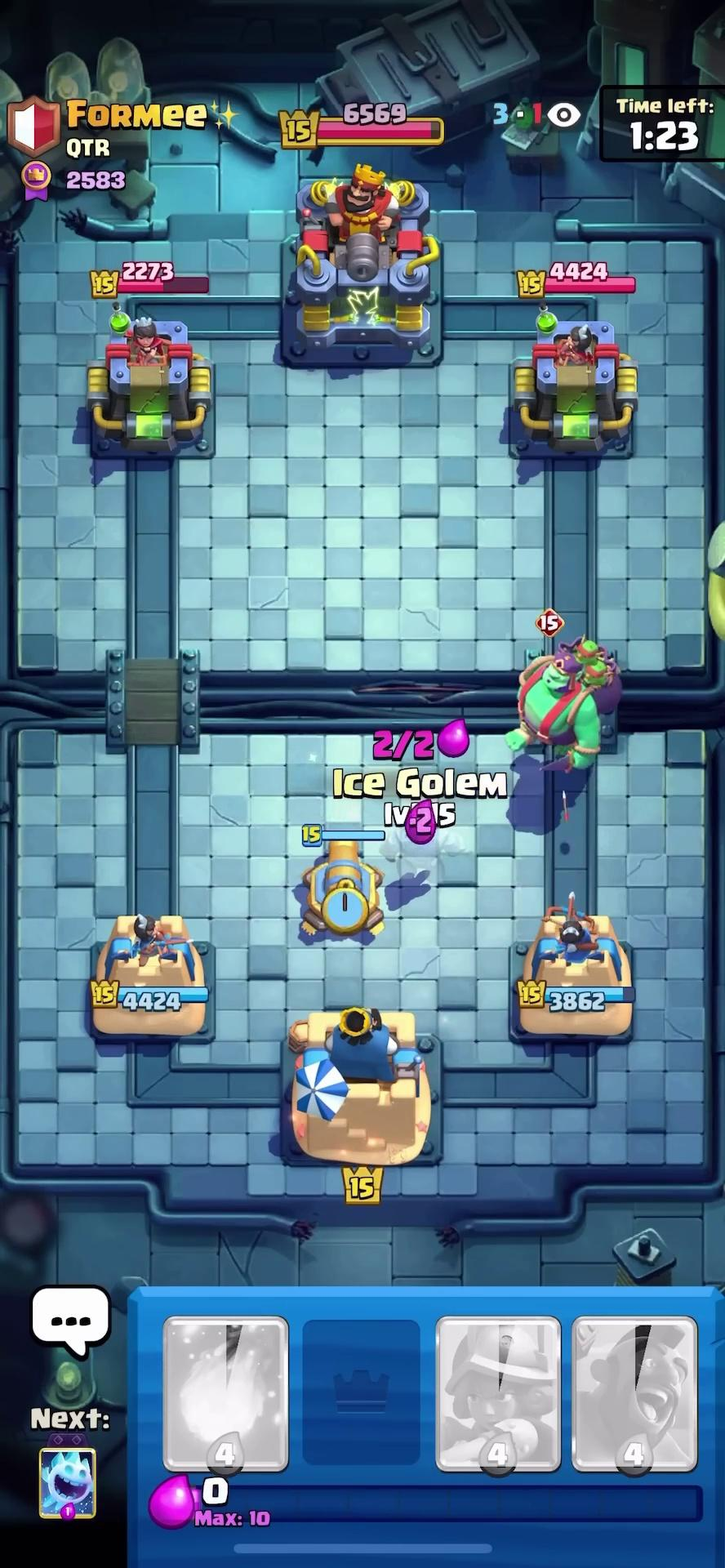cannon: (271, 811, 412, 951)
